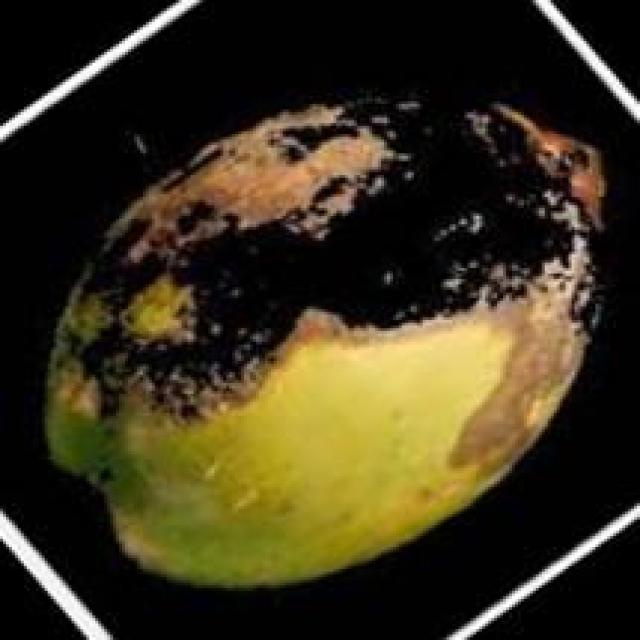damaged: (48, 93, 601, 585)
